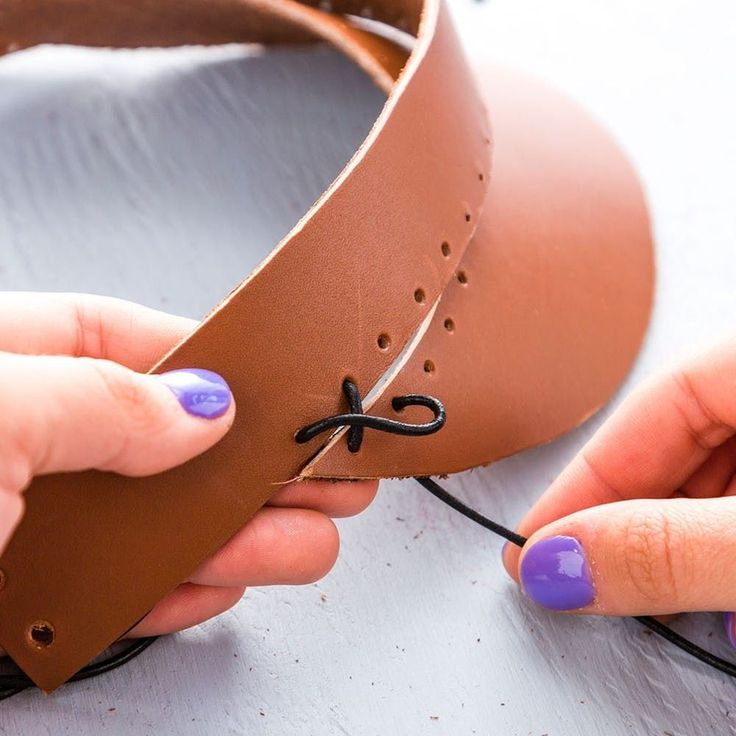cuero: (1, 1, 657, 701)
